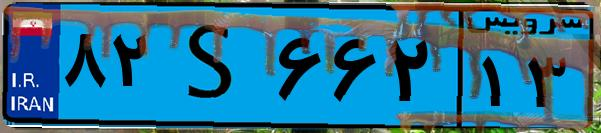1: (475, 38, 525, 113)
2: (385, 28, 445, 110), (110, 28, 158, 98)
3: (525, 38, 570, 115)
6: (270, 28, 330, 110), (330, 28, 385, 110)
8: (57, 26, 110, 100)
S: (158, 12, 270, 120)
